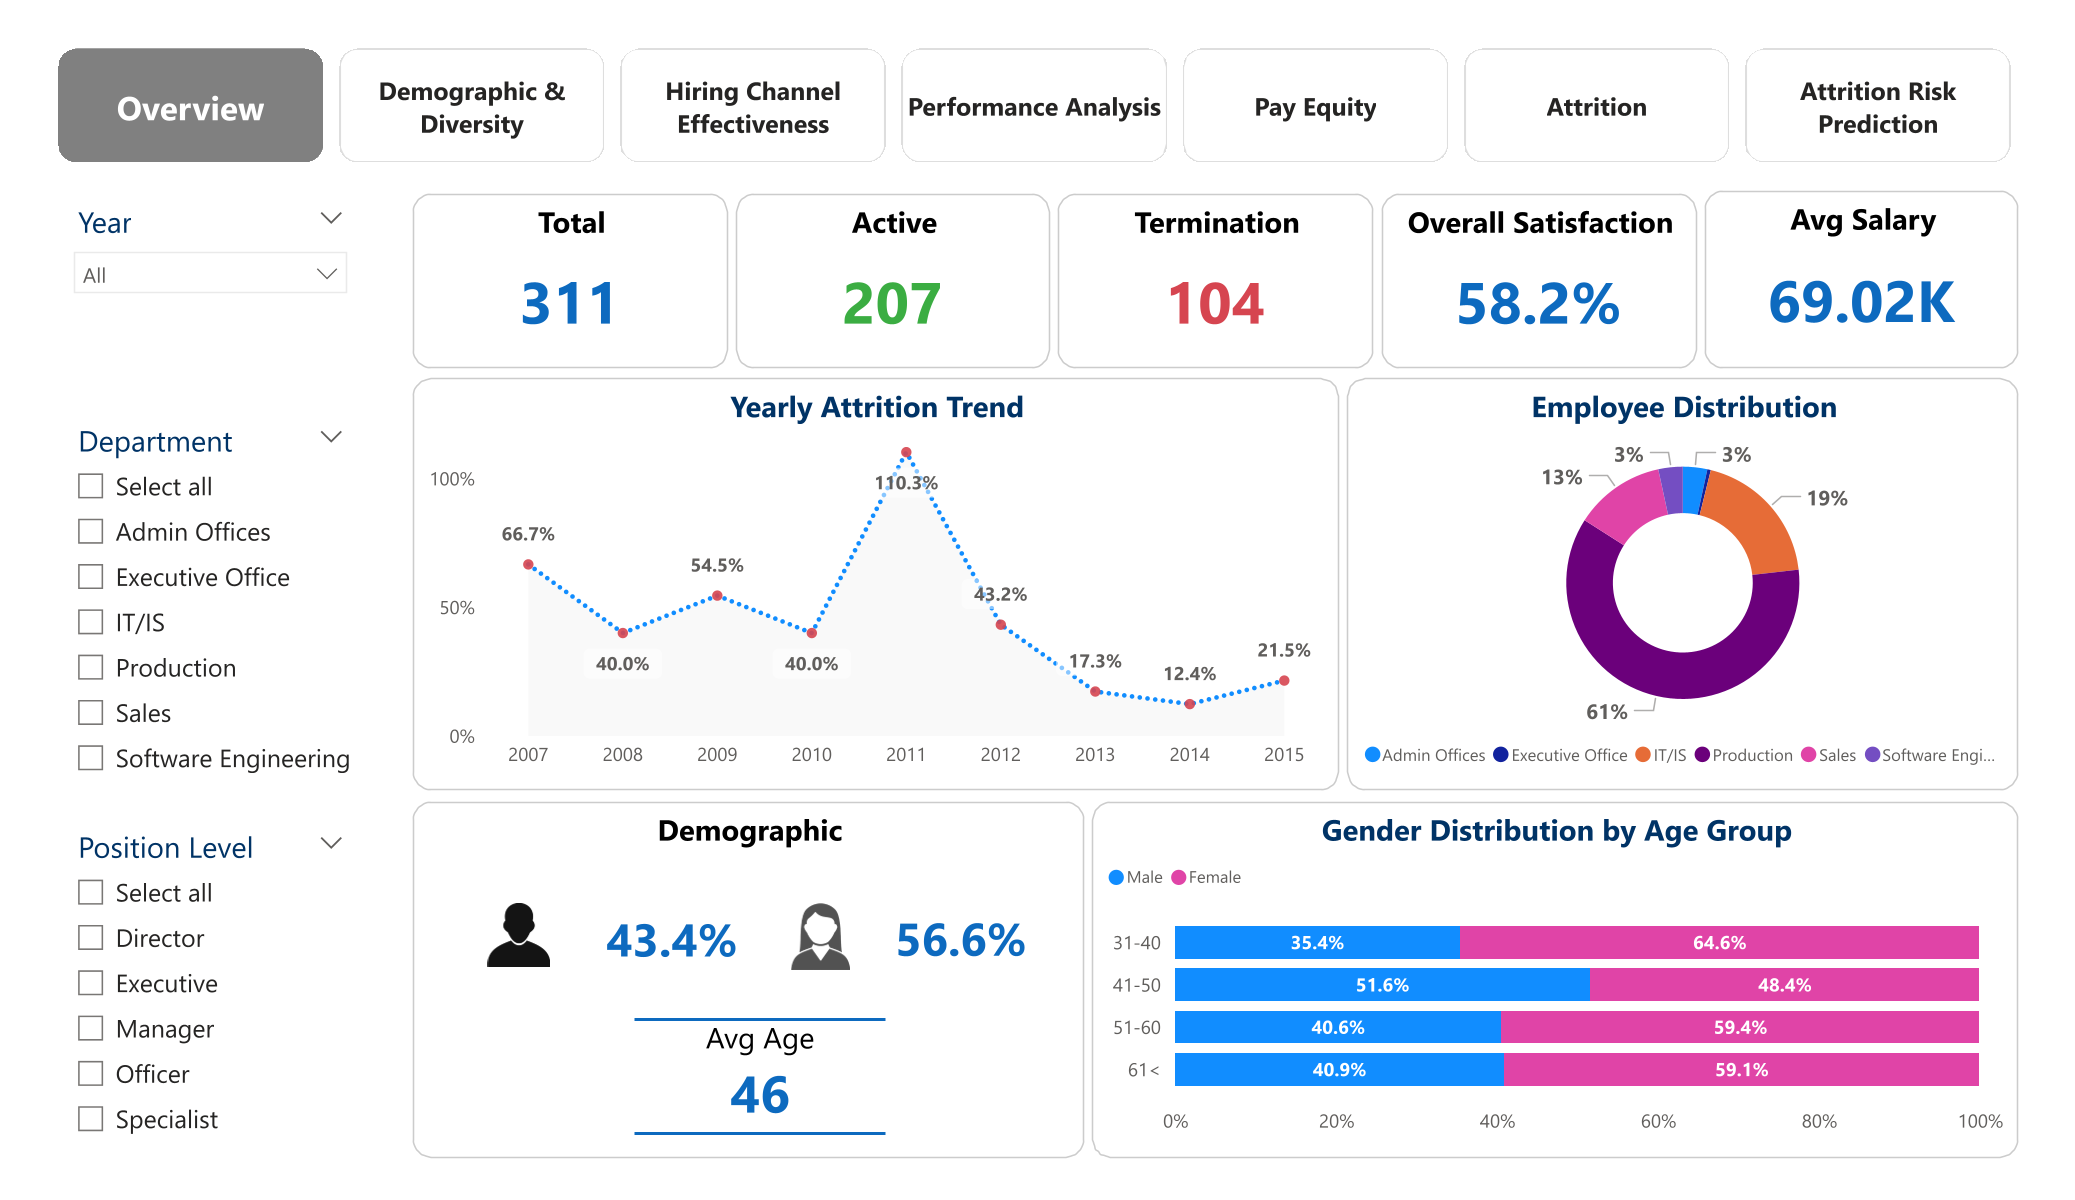

The dashboard page shown, as its layout file describes it:
{"tool":"powerbi","page":{"name":"Overview","canvas":[1280,720],"ordinal":0},"visuals":[{"type":"card","title":"Total","fields":{"Values":["EmployeeData.Total HC"]},"box":[240,100,201.7,111.7],"z":1000},{"type":"shape","title":"Demographic","box":[240,488.9,430,228.3],"z":2000,"group":"g1"},{"type":"card","title":"Active","fields":{"Values":["EmployeeData.Active_HC"]},"box":[446.7,100,201.7,111.7],"z":3000},{"type":"card","title":"Termination","fields":{"Values":["EmployeeData.Termination"]},"box":[653.3,100,201.7,111.7],"z":4000},{"type":"card","title":"Avg Salary","fields":{"Values":["FACT-HRData.AvgSalary"]},"box":[1066.7,98.3,201.7,113.3],"z":5000},{"type":"pageNavigator","box":[13.3,6.7,1255,73.3],"z":6000},{"type":"slicer","fields":{"Values":["DIM-Dept.Department"]},"box":[13.3,240,195,250],"z":7000},{"type":"card","title":"Overall Satisfaction","fields":{"Values":["FACT-HRData.NPS%_EmpSatisfaction"]},"box":[860,100,201.7,111.7],"z":8000},{"type":"slicer","fields":{"Values":["DIM-Position.Position Level"]},"box":[13.3,500,195,216.7],"z":9000},{"type":"lineChart","title":"Yearly Attrition Trend","fields":{"Y":["FACT-HRData.Attrition %"],"Category":["FACT-HRData.Dateo f Hire.Variation.Date Hierarchy.Year","FACT-HRData.Dateo f Hire.Variation.Date Hierarchy.Quarter","FACT-HRData.Dateo f Hire.Variation.Date Hierarchy.Month","FACT-HRData.Dateo f Hire.Variation.Date Hierarchy.Day"]},"box":[240,218.3,593.3,263.3],"z":10000},{"type":"donutChart","title":"Employee Distribution","fields":{"Category":["DIM-Dept.Department"],"Y":["FACT-HRData.Active_HC"]},"box":[838.3,218.3,430,263.3],"z":11000},{"type":"card","fields":{"Values":["EmployeeData.Male %"]},"box":[356.7,555.1,98.3,45],"z":12000,"group":"g1"},{"type":"hundredPercentStackedBarChart","title":"Gender Distribution by Age Group","fields":{"Y":["FACT-HRData.Male %","FACT-HRData.Female %"],"Category":["FACT-HRData.AgeGroup"]},"box":[675,488.9,593.3,228.3],"z":13000},{"type":"card","fields":{"Values":["EmployeeData.Female %"]},"box":[541.7,555.1,98.3,43.3],"z":14000,"group":"g1"},{"type":"slicer","fields":{"Values":["FACT-HRData.Dateo f Hire.Variation.Date Hierarchy.Year"]},"box":[13.3,100,195,130],"z":15000},{"type":"image","box":[476.7,545.1,48.3,60],"z":16000,"group":"g1"},{"type":"image","box":[283.3,545.1,50,58.3],"z":17000,"group":"g1"},{"type":"card","title":"Avg Age","fields":{"Values":["EmployeeData.Avg Age"]},"box":[381.7,627.2,161.7,71.7],"z":18000,"group":"g1"},{"type":"shape","box":[381.7,620.6,161.7,15],"z":19000,"group":"g1"},{"type":"shape","box":[381.7,695.6,161.7,11.7],"z":20000,"group":"g1"},{"type":"group","id":"g1","title":"Group 1","box":[240,488.9,430,228.3],"z":20001}]}

Visuals, with their boxes in screenshot pixels (x1, y1, x2, y2):
"Total" card: BBox(412, 194, 728, 368)
"Demographic" shape: BBox(412, 801, 1084, 1158)
"Active" card: BBox(735, 194, 1051, 368)
"Termination" card: BBox(1058, 194, 1373, 368)
"Avg Salary" card: BBox(1704, 191, 2019, 368)
pageNavigator: BBox(58, 48, 2019, 162)
slicer - DIM-Dept.Department: BBox(58, 412, 363, 803)
"Overall Satisfaction" card: BBox(1381, 194, 1696, 368)
slicer - DIM-Position.Position Level: BBox(58, 819, 363, 1157)
"Yearly Attrition Trend" lineChart: BBox(412, 379, 1340, 790)
"Employee Distribution" donutChart: BBox(1347, 379, 2019, 790)
card - EmployeeData.Male %: BBox(595, 905, 748, 975)
"Gender Distribution by Age Group" hundredPercentStackedBarChart: BBox(1092, 801, 2019, 1158)
card - EmployeeData.Female %: BBox(884, 905, 1038, 972)
slicer - FACT-HRData.Dateo f Hire.Variation.Date Hierarchy.Year: BBox(58, 194, 363, 397)
image: BBox(782, 889, 858, 983)
image: BBox(480, 889, 558, 980)
"Avg Age" card: BBox(634, 1018, 887, 1130)
shape: BBox(634, 1007, 887, 1031)
shape: BBox(634, 1124, 887, 1143)
"Group 1" group: BBox(412, 801, 1084, 1158)
